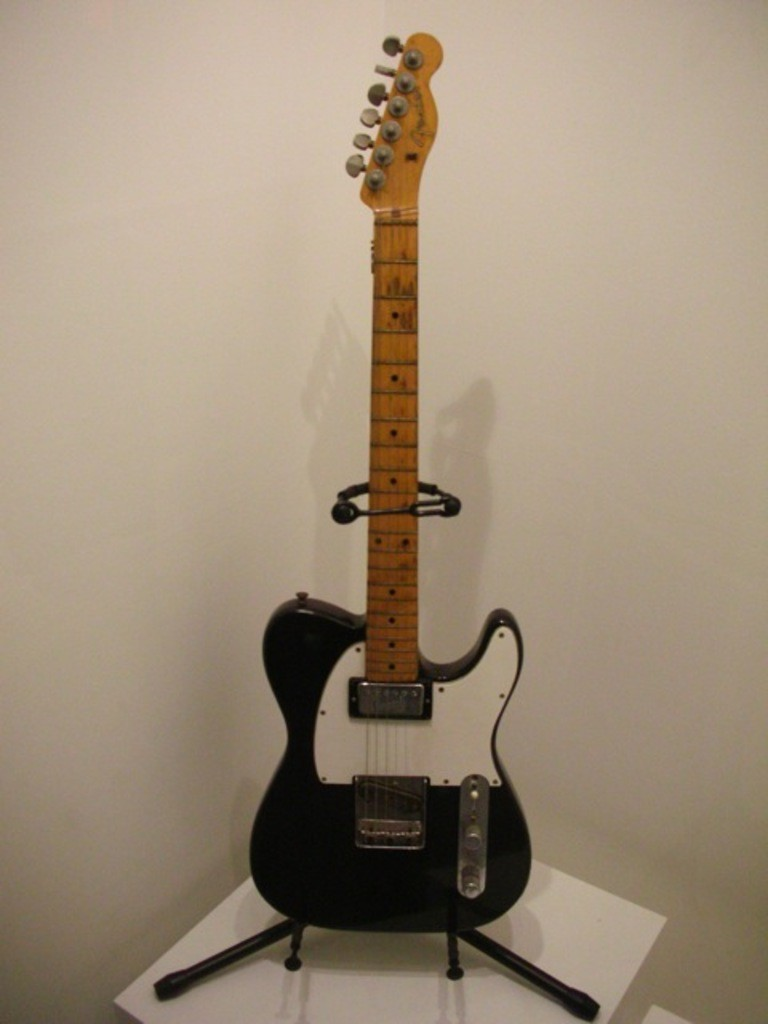guitar: (251, 34, 531, 933)
